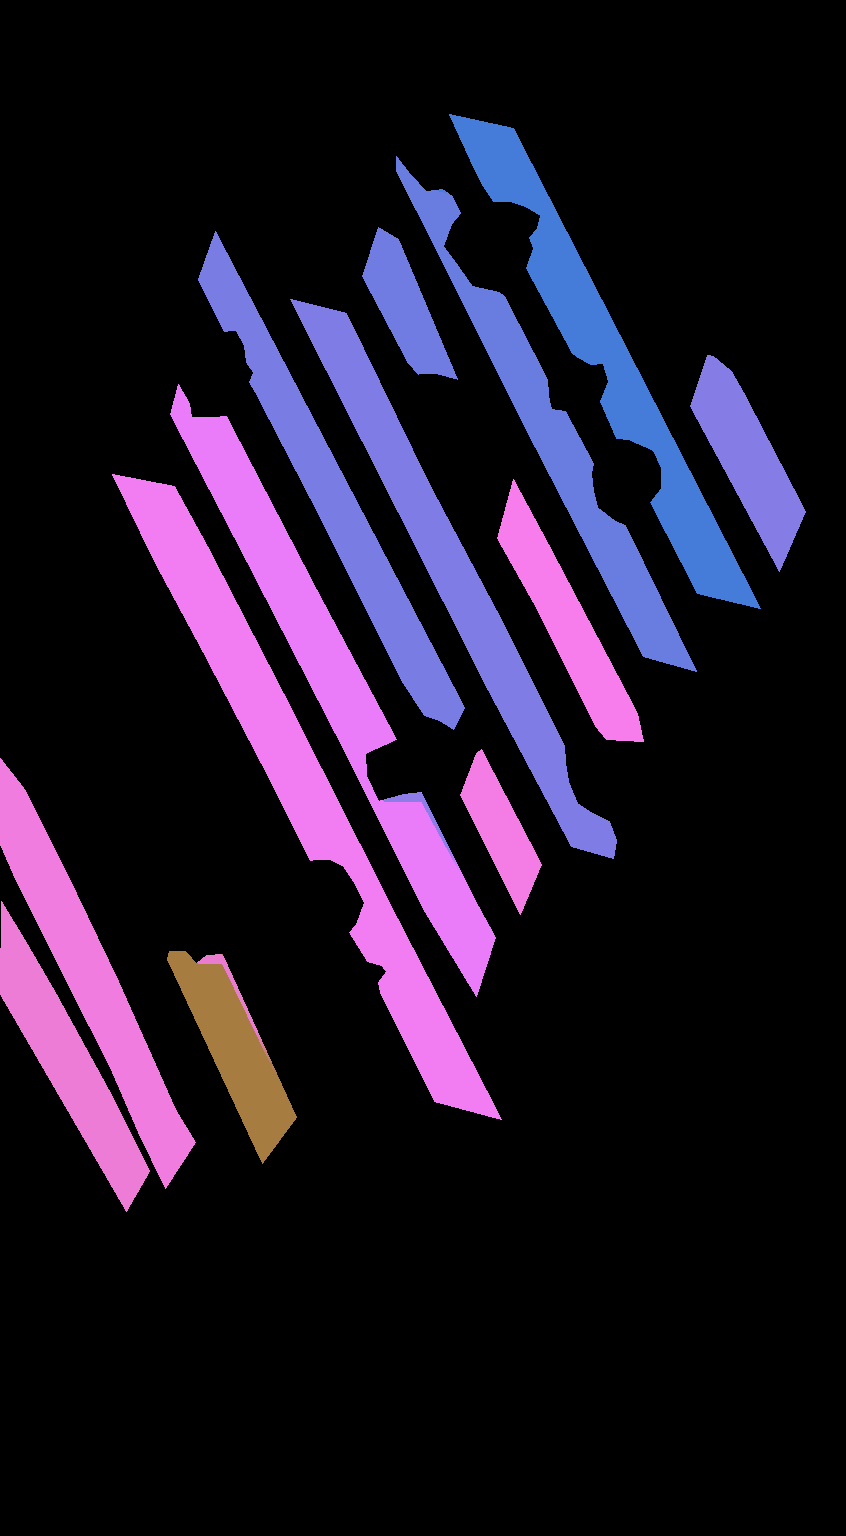parkingspot: (111, 474, 501, 1119), (170, 384, 495, 996), (290, 299, 616, 858), (396, 156, 696, 671), (449, 114, 760, 608), (198, 231, 464, 729), (0, 758, 195, 1188), (0, 901, 149, 1211), (497, 479, 643, 741), (167, 951, 296, 1163), (690, 355, 805, 571), (362, 227, 457, 379), (461, 749, 541, 914)
